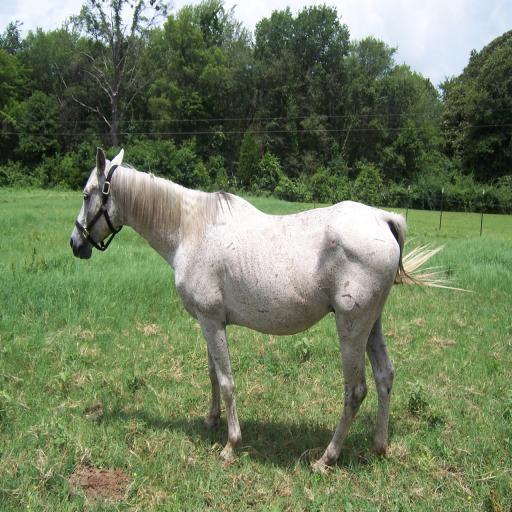Horse: (69, 146, 474, 476)
